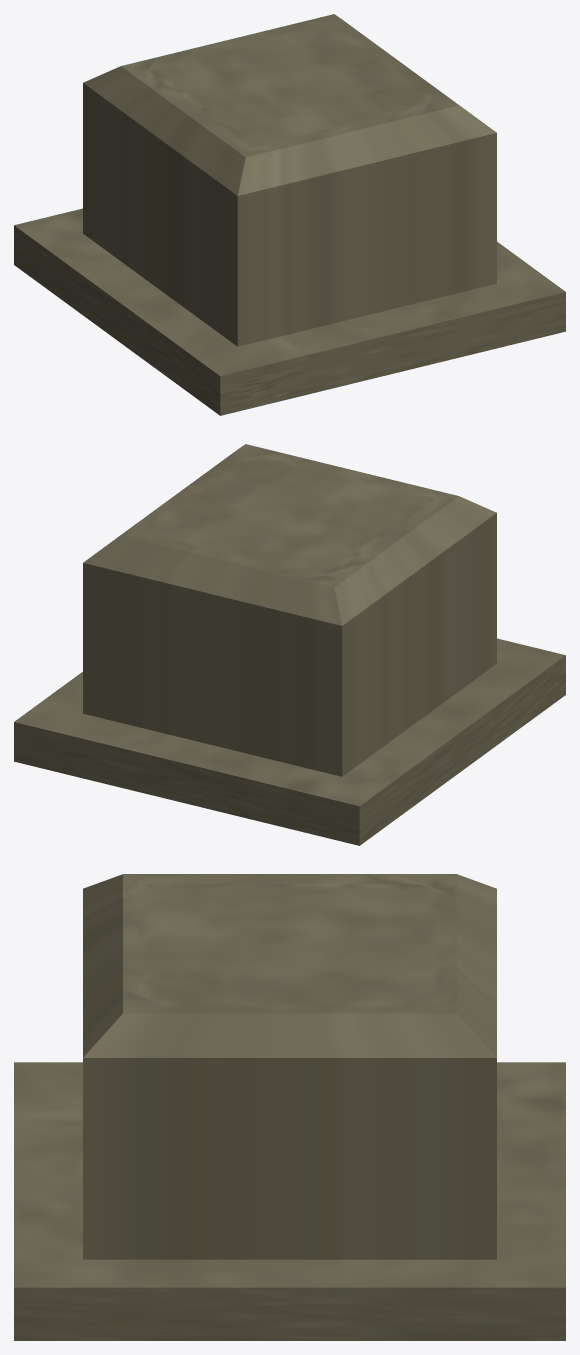
File: Acosta_I_TombstoneWall3.fbx
3 renders of one model, top to bottom at view 1: azimuth 30°, elevation 25°; view 2: azimuth 150°, elevation 25°; view 3: azimuth 270°, elevation 25°, orthographic. The views are drawn at different scales.
Visible parts, largest first — view 1: Cube; view 2: Cube; view 3: Cube.
Boxes of the visible parts, x1,y1,x2,y2 form: Cube: [14, 14, 565, 415]; Cube: [14, 444, 565, 845]; Cube: [14, 874, 565, 1340].
Bounding box in the file's own units: 1008 × 592 × 1042.
